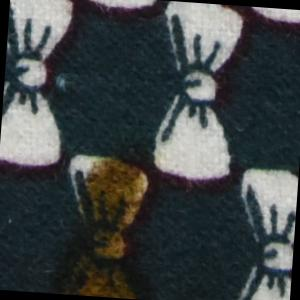Oil Stain: (58, 131, 166, 300)
